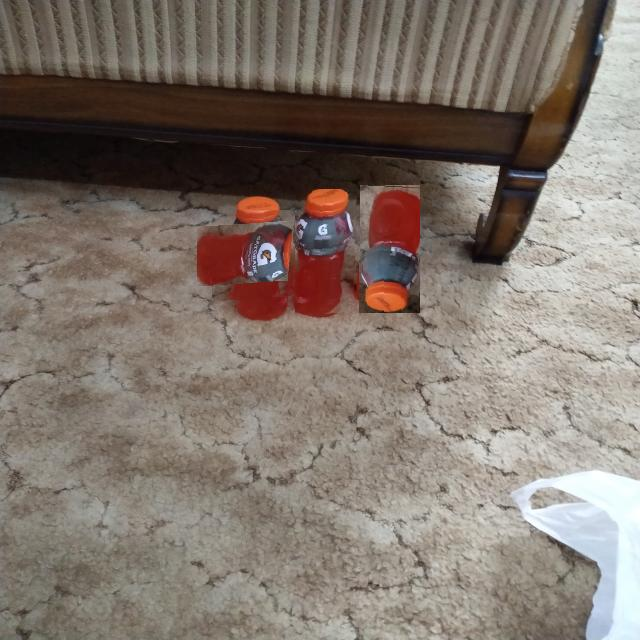Plastic: (212, 210, 304, 302), (295, 189, 357, 317), (359, 184, 420, 313)
